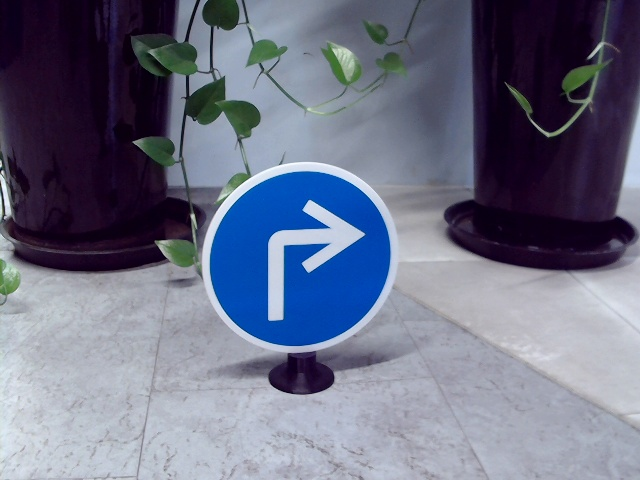turn_right: (257, 200, 356, 316)
